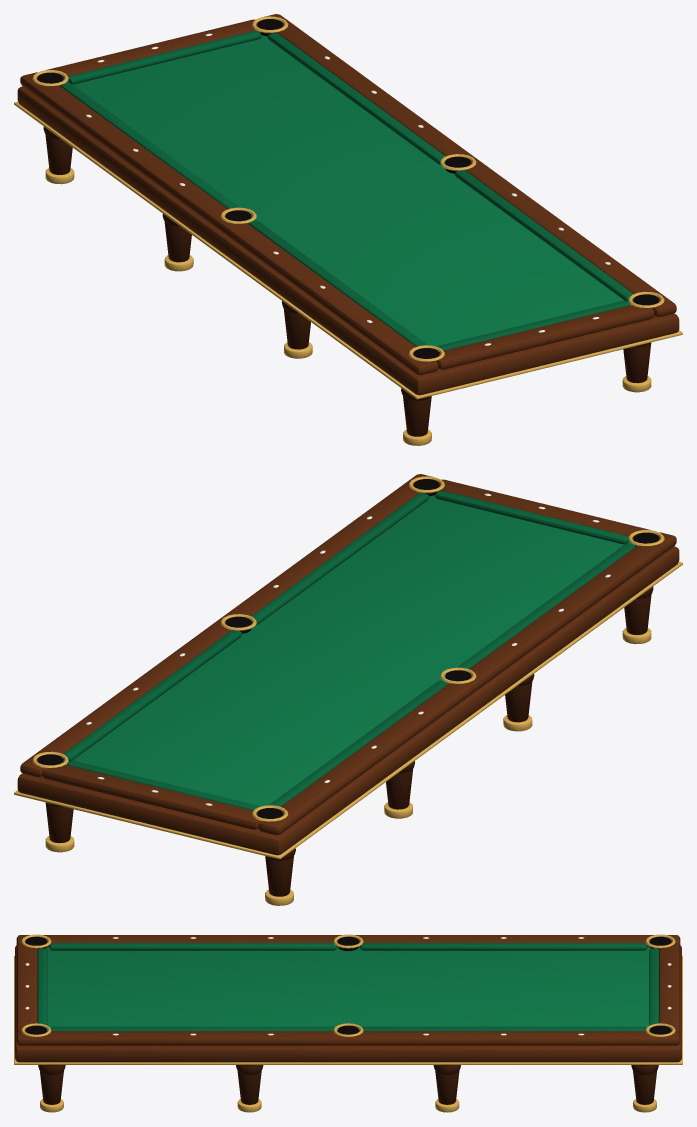
File: PlazaTable6.fbx
The picture shows the model from 3 angles, top to bottom: view 1: azimuth 30°, elevation 25°; view 2: azimuth 150°, elevation 25°; view 3: azimuth 270°, elevation 25°; orthographic projection. The views are drawn at different scales.
Parts seen in each view (by area): view 1: PlazaTable6; view 2: PlazaTable6; view 3: PlazaTable6.
Part boxes in pixels (<box>): PlazaTable6: <box>14,14,682,445</box>; PlazaTable6: <box>14,474,682,905</box>; PlazaTable6: <box>14,934,682,1112</box>.
Bounding box in the file's own units: 962 × 326 × 2522.
